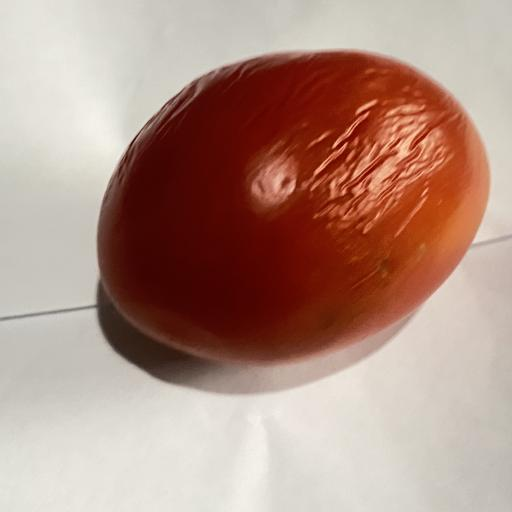spoiled: (98, 51, 489, 363)
